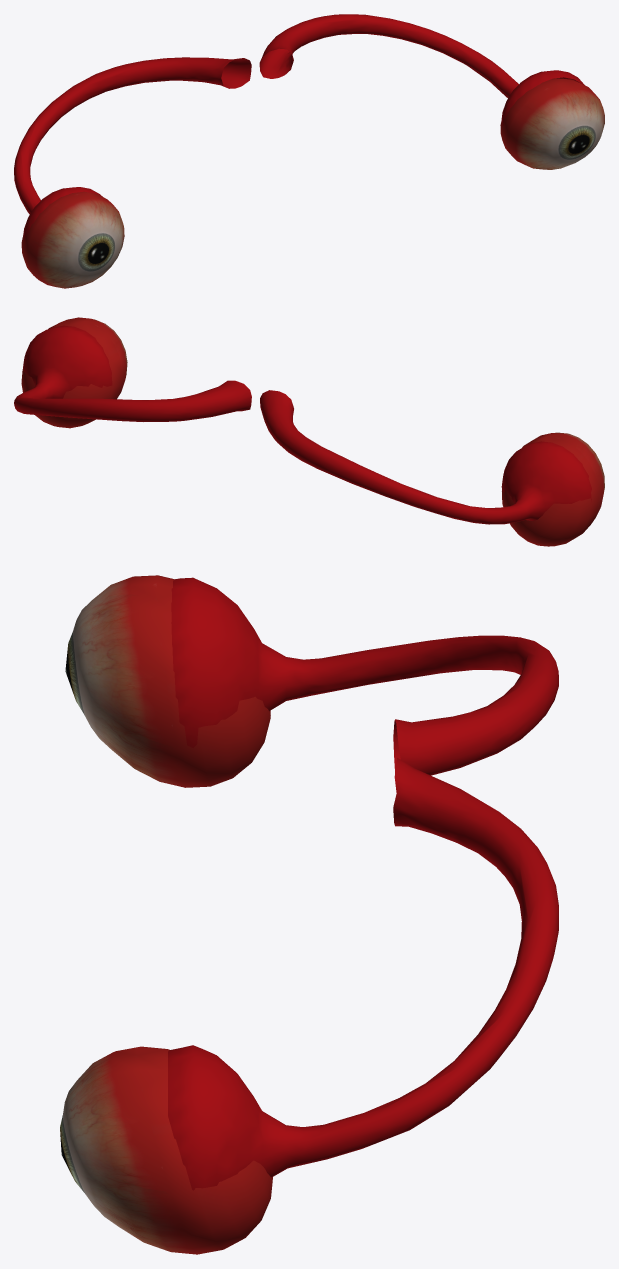
File: avatar__eyeball(arm).glb
3 views of the same model, one above another, from view 1: azimuth 30°, elevation 25°; view 2: azimuth 150°, elevation 25°; view 3: azimuth 270°, elevation 25° (orthographic). The views are drawn at different scales.
Parts seen in each view (by area): view 1: Creature.002, Human_Eye, Human_Eye.001; view 2: Creature.002, Human_Eye, Human_Eye.001; view 3: Creature.002, Human_Eye.001, Human_Eye.
Boxes of the visible parts, box(x1,y1,x2,y2) form: Creature.002: box(14, 14, 584, 244); Human_Eye: box(21, 191, 124, 288); Human_Eye.001: box(500, 78, 604, 169); Creature.002: box(14, 325, 591, 524); Human_Eye: box(502, 432, 604, 546); Human_Eye.001: box(21, 317, 127, 428); Creature.002: box(168, 577, 558, 1190); Human_Eye.001: box(60, 1046, 272, 1254); Human_Eye: box(65, 575, 270, 787).
Size of the model in its own units: 3.02 by 0.681 by 1.14.
2 materials, 1 textured.
